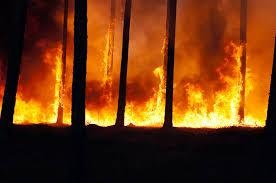fire: (6, 8, 257, 133)
